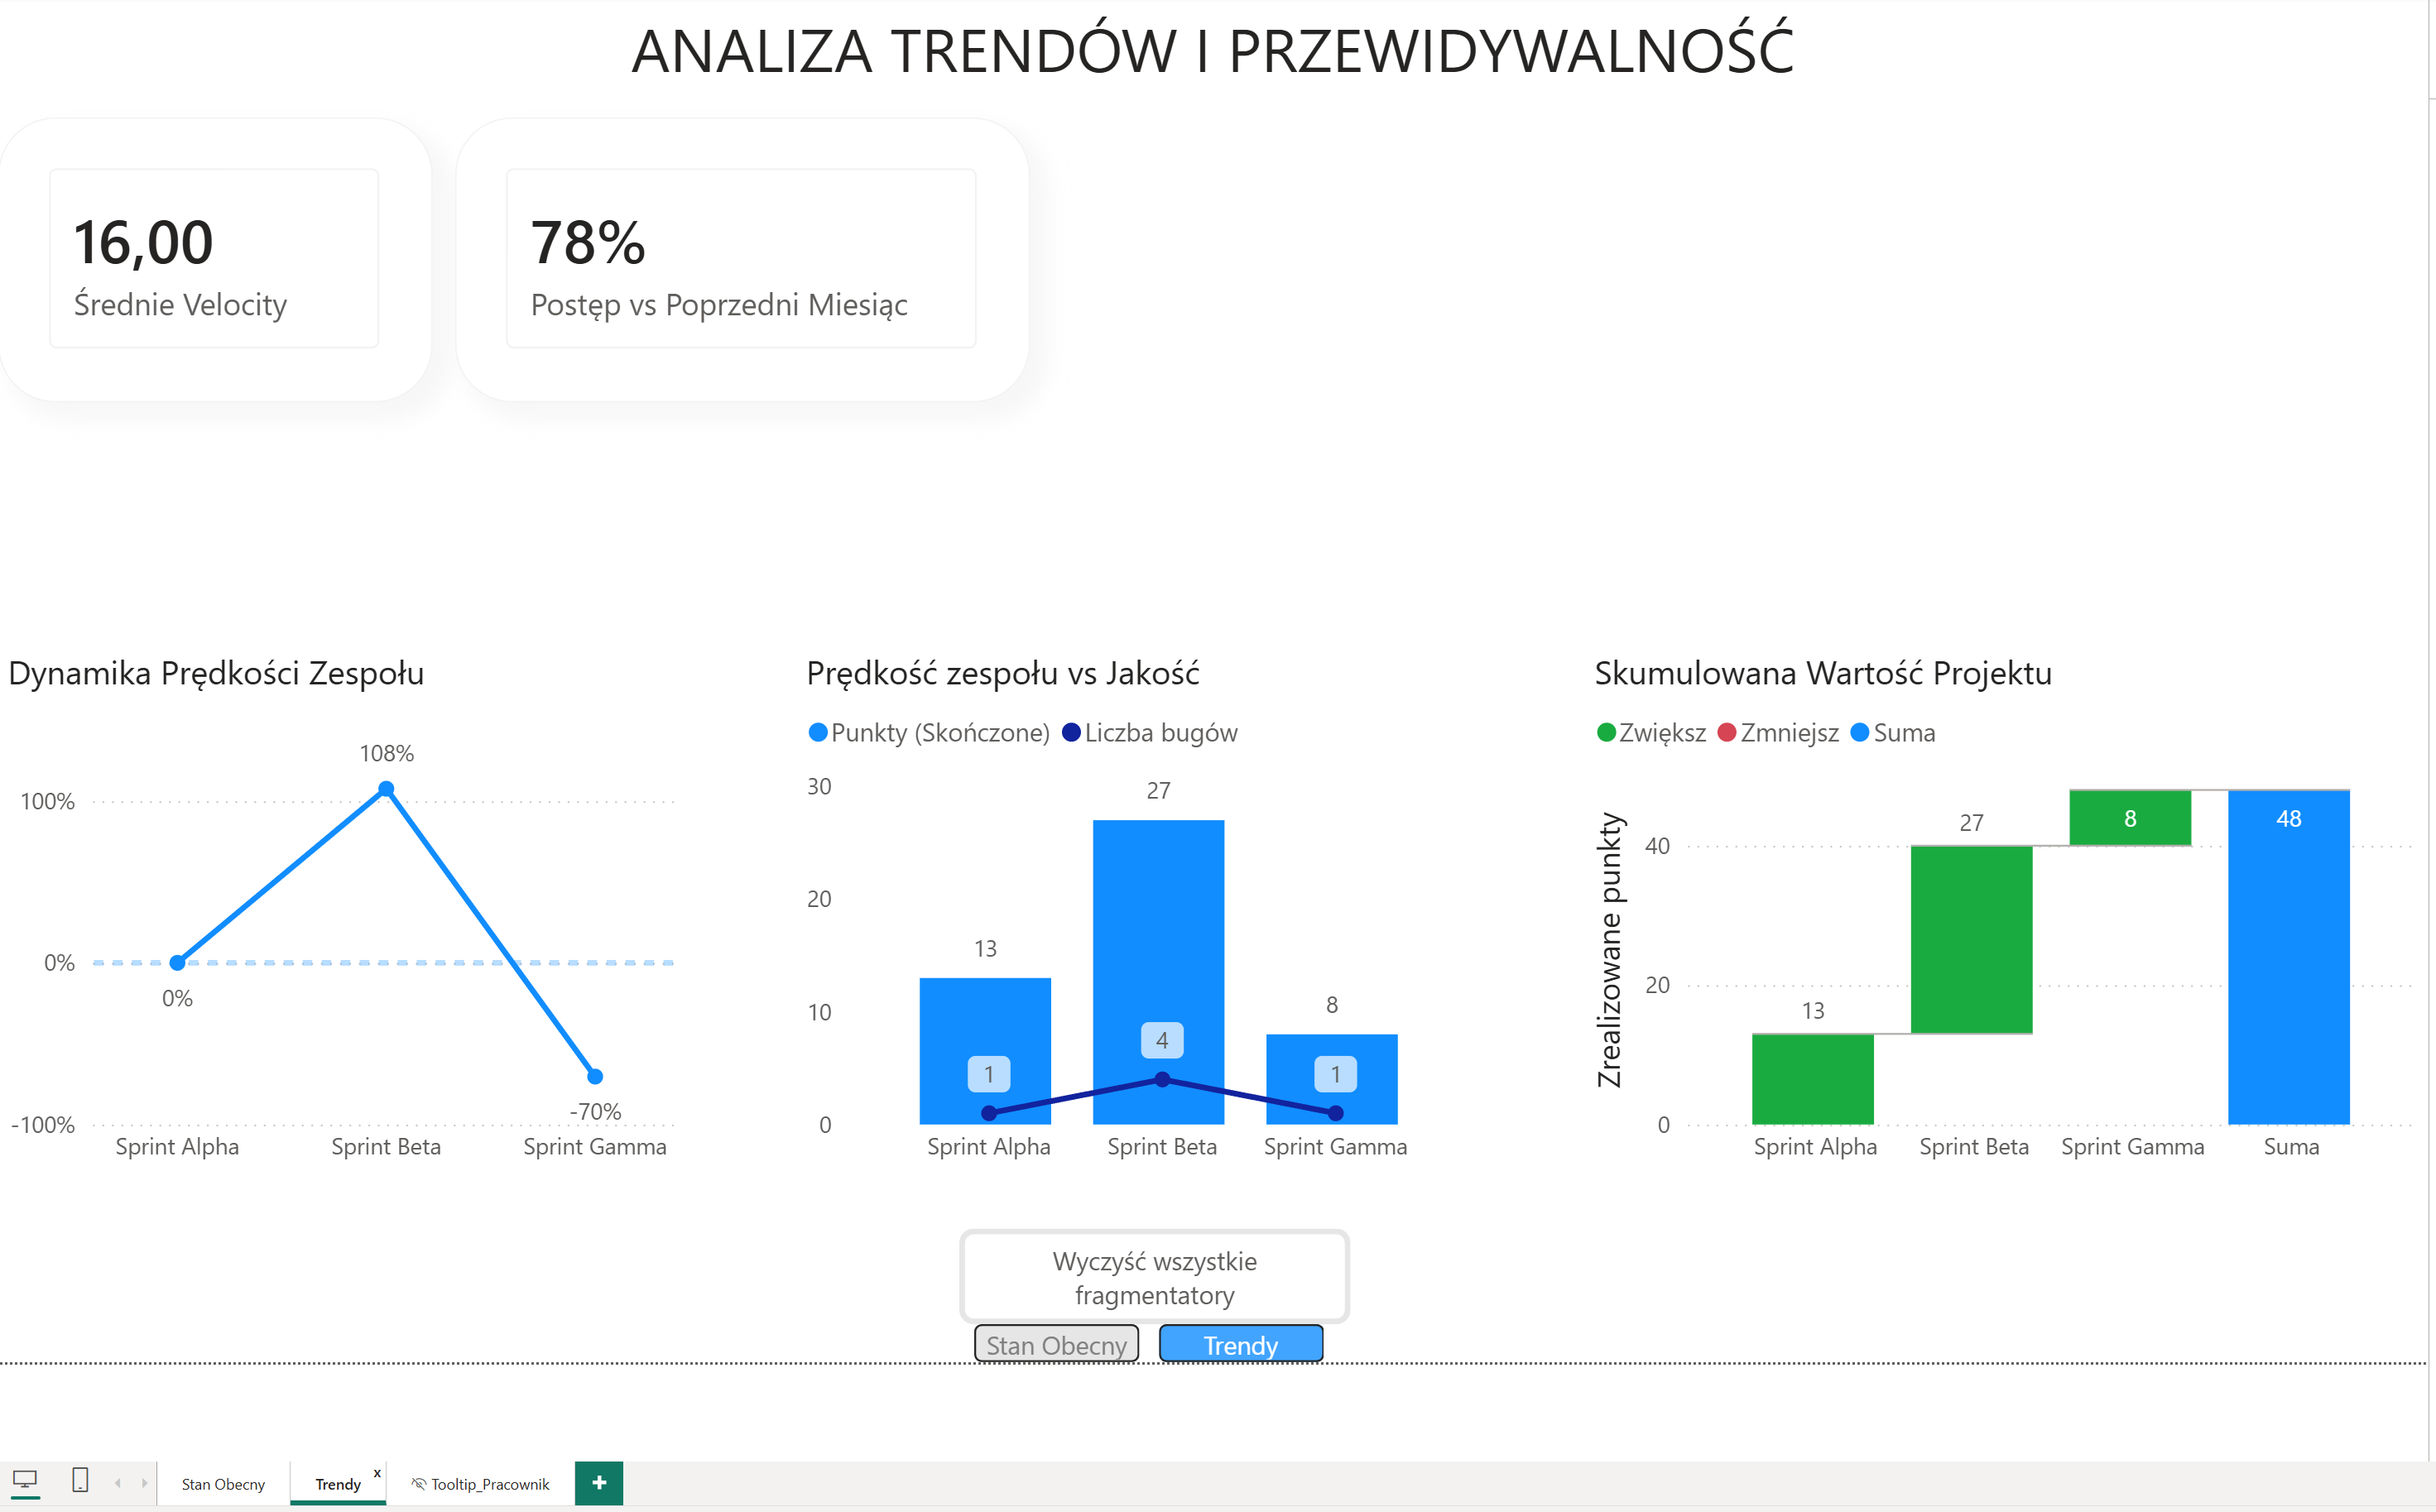

This screenshot's page, from the dashboard's own definition file:
{"tool":"powerbi","page":{"name":"Trendy","canvas":[1280,720],"ordinal":1},"visuals":[{"type":"lineChart","title":"Dynamika Prędkości Zespołu","fields":{"Y":["_Miary.Velocity Growth vs Prev Sprint"],"Category":["sprinty.nazwa"]},"box":[0,343.7,371,280.3],"z":0},{"type":"cardVisual","title":"Punkty wykonane","fields":{"Data":["_Miary.Average Velocity"]},"box":[0,64.1,228.4,149.9],"z":1000,"group":"g1"},{"type":"waterfallChart","title":"Skumulowana Wartość Projektu","fields":{"Y":["_Miary.Done SP"],"Category":["sprinty.nazwa"]},"box":[835.7,343.7,443.8,280.3],"z":1000},{"type":"textbox","box":[0,0,1279.8,58.9],"z":2000},{"type":"cardVisual","title":"% Skuteczności","fields":{"Data":["_Miary.Velocity Growth % poprzedni sprint"]},"box":[240.6,64.1,302.6,149.9],"z":2000,"group":"g1"},{"type":"lineStackedColumnComboChart","title":"Prędkość zespołu vs Jakość ","fields":{"Y2":["_Miary.Bug Count"],"Y":["_Miary.Done SP"],"Category":["sprinty.nazwa"]},"box":[420.7,343.7,361.7,280.3],"z":3000},{"type":"group","id":"g1","title":"Grupa 1","box":[0,64.1,543.4,149.8],"z":4000},{"type":"actionButton","box":[506.5,649.1,206,50.4],"z":5000},{"type":"pageNavigator","box":[514,699.7,185.1,20.3],"z":6000}]}

Visuals, with their boxes on the page's 1280x720 design canvas (x1, y1, x2, y2). These are canvas units, not pixel positions in the 2436x1512 screenshot, which may show the page scaled, cropped or inside an application window:
"Dynamika Prędkości Zespołu" lineChart: 0:344:371:624
"Punkty wykonane" cardVisual: 0:64:228:214
"Skumulowana Wartość Projektu" waterfallChart: 836:344:1280:624
textbox: 0:0:1280:59
"% Skuteczności" cardVisual: 241:64:543:214
"Prędkość zespołu vs Jakość " lineStackedColumnComboChart: 421:344:782:624
"Grupa 1" group: 0:64:543:214
actionButton: 506:649:712:700
pageNavigator: 514:700:699:720
